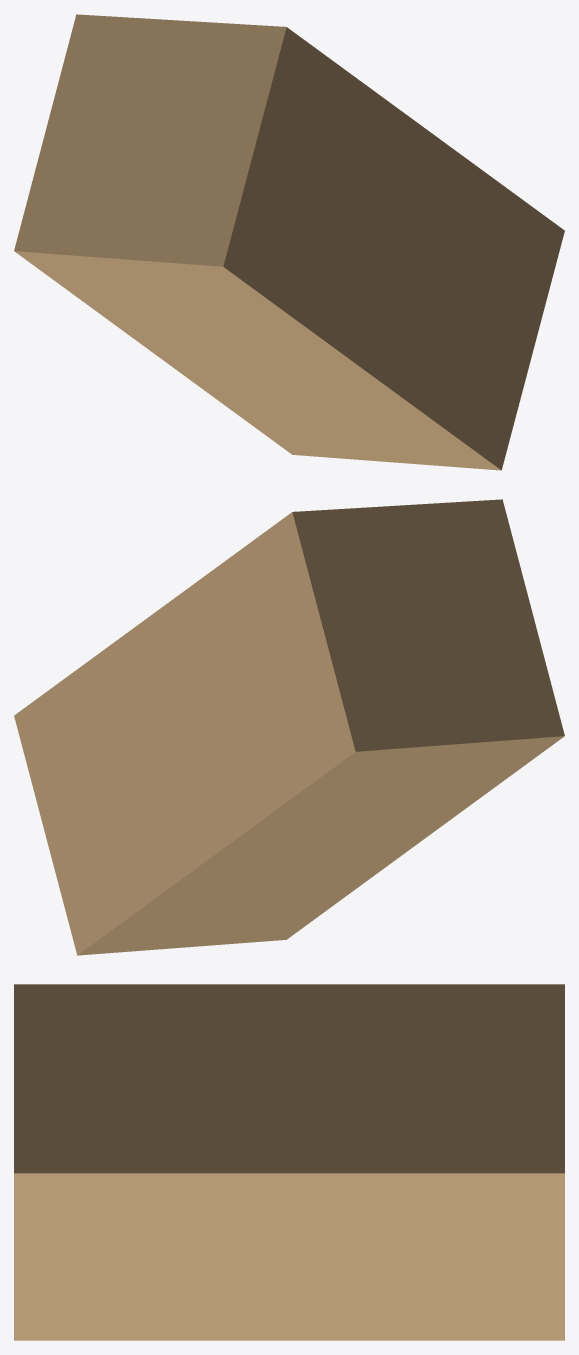
3 views of the same model, one above another, from view 1: azimuth 30°, elevation 25°; view 2: azimuth 150°, elevation 25°; view 3: azimuth 270°, elevation 25° (orthographic).
Parts seen in each view (by area): view 1: 0_1_3_2_2_1_1_2_3_2_1; view 2: 0_1_3_2_2_1_1_2_3_2_1; view 3: 0_1_3_2_2_1_1_2_3_2_1.
Boxes of the visible parts, bbox=[...] form: 0_1_3_2_2_1_1_2_3_2_1: bbox=[14, 14, 564, 470]; 0_1_3_2_2_1_1_2_3_2_1: bbox=[14, 499, 564, 955]; 0_1_3_2_2_1_1_2_3_2_1: bbox=[14, 984, 564, 1340].
Size of the model in its own units: 13.57 by 13.71 by 24.
